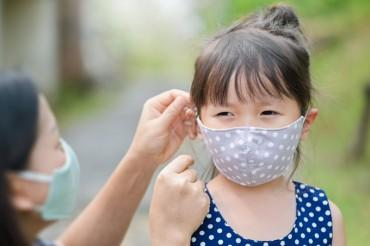mask: (184, 116, 303, 189)
